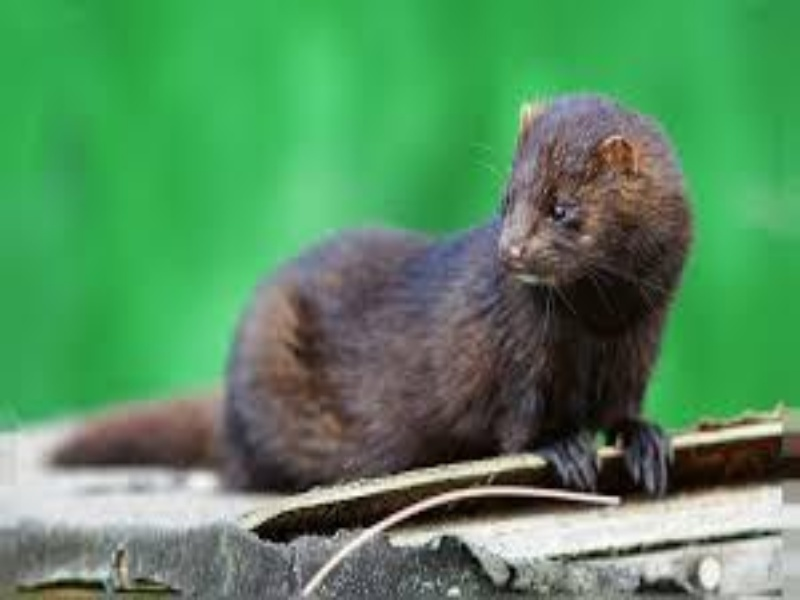minkish: (42, 85, 694, 498)
